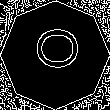O_W: (30, 34, 80, 76)
